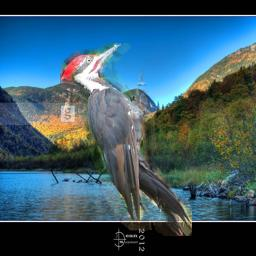Woodpecker: (60, 43, 192, 236)
